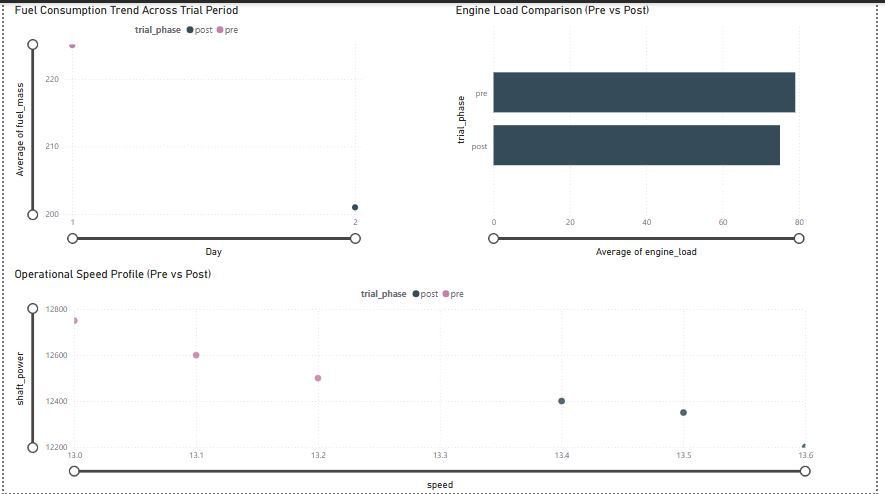

This screenshot's page, from the dashboard's own definition file:
{"tool":"powerbi","page":{"name":"Page 2","canvas":[1280,720],"ordinal":1},"visuals":[{"type":"lineChart","title":"Fuel Consumption Trend Across Trial Period","fields":{"Y":["Avg(cleaned_data.fuel_mass)"],"Category":["cleaned_data.timestamp.Variation.Date Hierarchy.Day"],"Series":["cleaned_data.trial_phase"]},"box":[10.3,0,520.6,377.5],"z":0},{"type":"scatterChart","title":"Operational Speed Profile (Pre vs Post)","fields":{"X":["cleaned_data.speed"],"Y":["cleaned_data.shaft_power"],"Series":["cleaned_data.trial_phase"]},"box":[10.3,387.8,1184.1,331.8],"z":1000},{"type":"clusteredBarChart","title":"Engine Load Comparison (Pre vs Post)","fields":{"Category":["cleaned_data.trial_phase"],"Y":["Avg(cleaned_data.engine_load)"]},"box":[657.7,0,522,377.5],"z":2000}]}

Visuals, with their boxes in screenshot pixels (x1, y1, x2, y2), scaled from the page's 1280x720 canvas onto the 885x494 screenshot:
"Fuel Consumption Trend Across Trial Period" lineChart: {"left": 7, "top": 0, "right": 367, "bottom": 259}
"Operational Speed Profile (Pre vs Post)" scatterChart: {"left": 7, "top": 266, "right": 826, "bottom": 493}
"Engine Load Comparison (Pre vs Post)" clusteredBarChart: {"left": 455, "top": 0, "right": 816, "bottom": 259}
